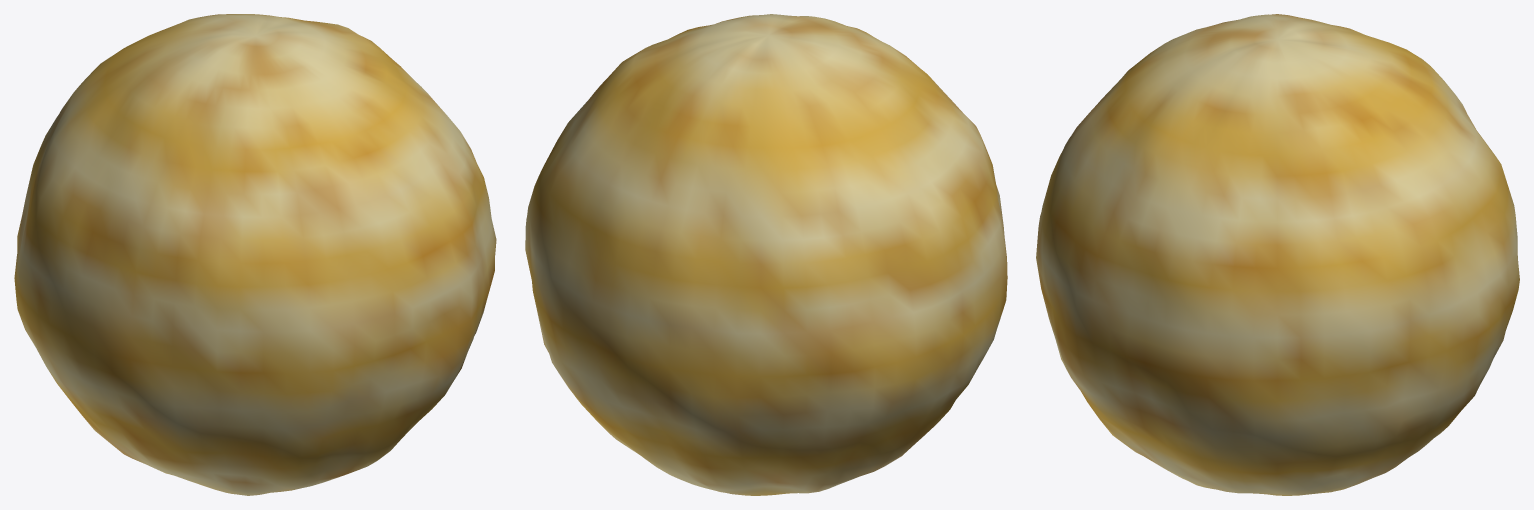
The model's file is planet_markers.glb.
3 views of the same model, side by side, from view 1: azimuth 30°, elevation 25°; view 2: azimuth 150°, elevation 25°; view 3: azimuth 270°, elevation 25° (orthographic).
Visible parts, largest first — view 1: Surface; view 2: Surface; view 3: Surface.
Part boxes in pixels (bbox=[...]): Surface: bbox=[14, 14, 496, 495]; Surface: bbox=[525, 14, 1007, 495]; Surface: bbox=[1036, 14, 1519, 495].
Size of the model in its own units: 2 by 2.01 by 2.02.
